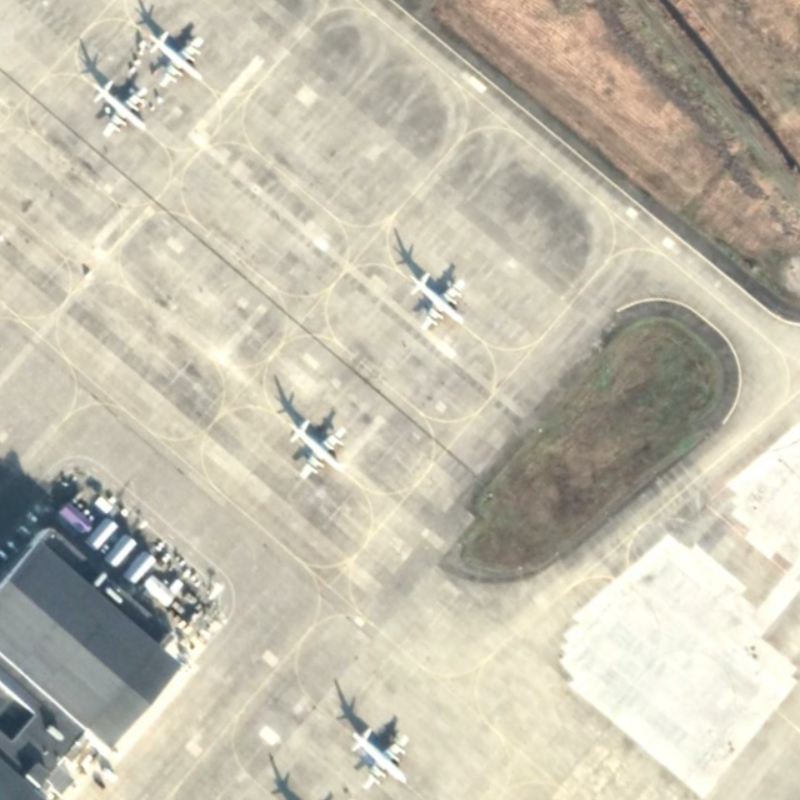A9: (345, 722, 413, 794), (143, 26, 210, 89), (87, 77, 155, 139), (407, 270, 472, 334), (286, 418, 351, 481)
